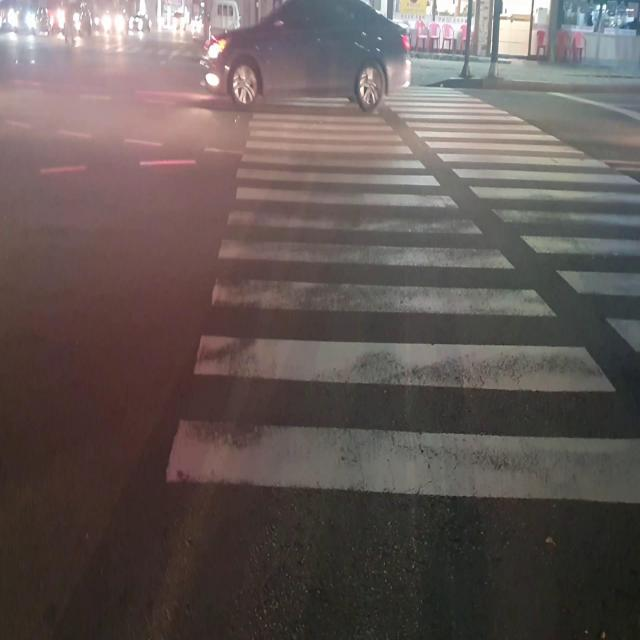crosswalk: (154, 86, 639, 534)
